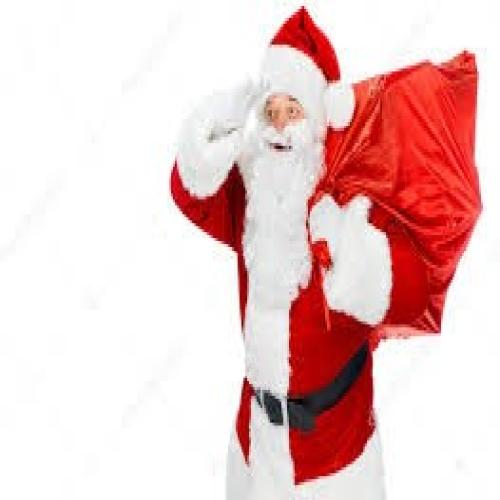Santa: (168, 7, 432, 498)
